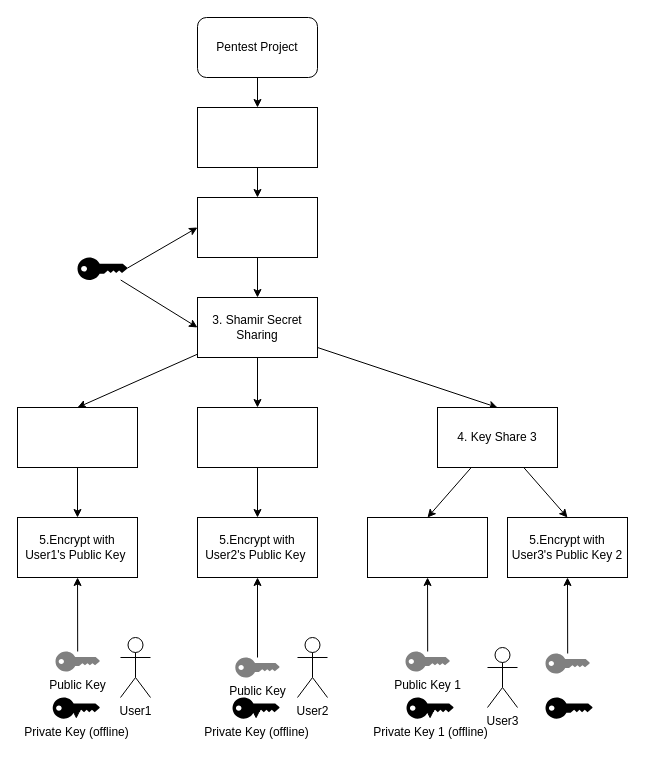
The diagram is 645 pixels wide and 772 high, and some of its shapes have lost their labels. The shapes that lost their labels are listed below. From the top down, each one's box as (x1, y1, x2, y2) in pixels, then its label:
(196, 106, 318, 168): 1. Export data to tar.gz archive
(196, 196, 318, 258): 2. Encrypt archive with AES-GCM
(77, 257, 127, 280): Random AES key
(16, 406, 138, 468): 4. Key Share 1
(196, 406, 318, 468): 4. Key Share 2
(366, 516, 488, 578): 5.Encrypt with User3's Public Key 1
(544, 652, 590, 674): Public Key 2
(545, 697, 592, 718): Private Key 2 (offline, YubiKey)
